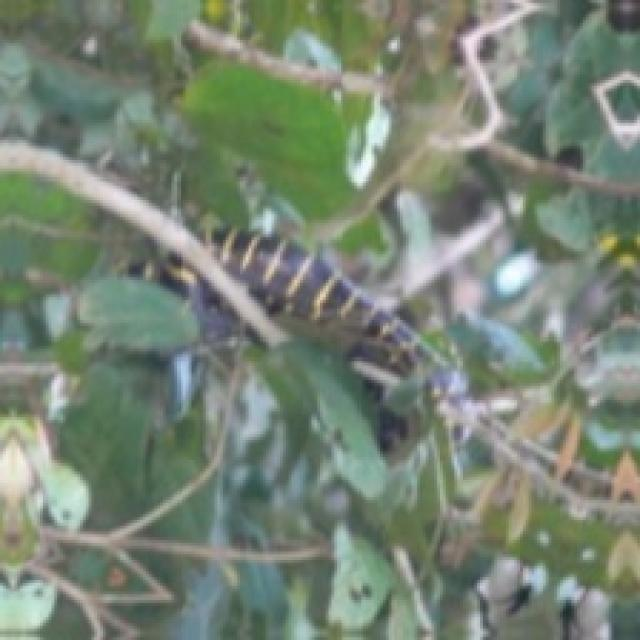mangrove cat snake: (206, 229, 431, 394)
